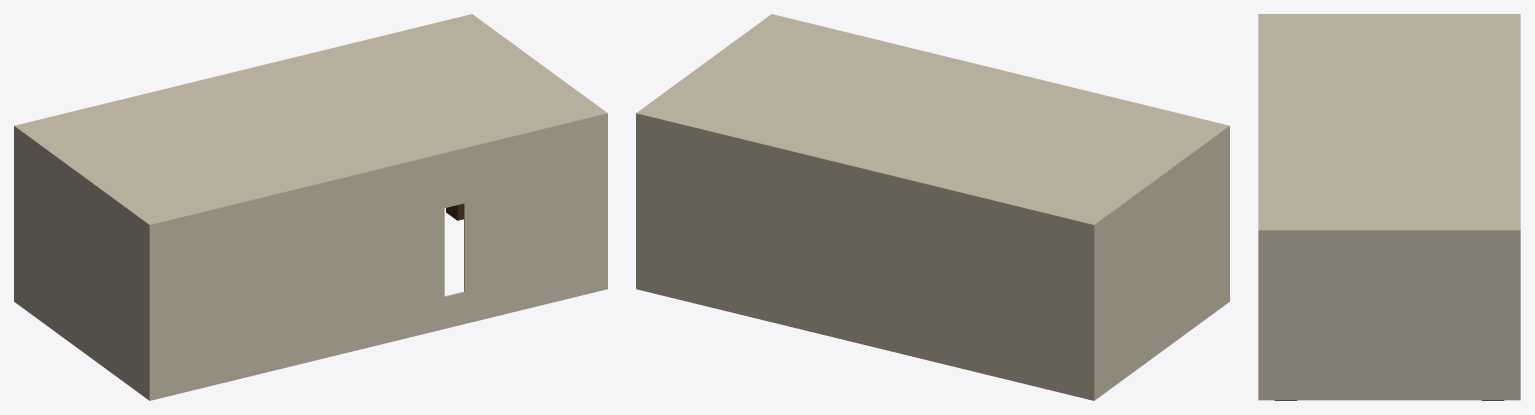
The model's file is hollow_table.glb.
3 views of the same model, side by side, from view 1: azimuth 30°, elevation 25°; view 2: azimuth 150°, elevation 25°; view 3: azimuth 270°, elevation 25° (orthographic). The views are drawn at different scales.
Visible parts, largest first — view 1: Cloth_Front, Cloth_Top, Cloth_Left; view 2: Cloth_Back, Cloth_Top, Cloth_Left; view 3: Cloth_Top, Cloth_Right, Cloth_Front, Cloth_Back.
Boxes of the visible parts, x1=… form: Cloth_Front: x1=149, y1=114, x2=607, y2=400; Cloth_Top: x1=14, y1=14, x2=607, y2=226; Cloth_Left: x1=15, y1=128, x2=148, y2=399; Cloth_Back: x1=636, y1=114, x2=1094, y2=400; Cloth_Top: x1=636, y1=14, x2=1229, y2=226; Cloth_Left: x1=1095, y1=127, x2=1228, y2=399; Cloth_Top: x1=1258, y1=14, x2=1520, y2=231; Cloth_Right: x1=1259, y1=231, x2=1519, y2=400; Cloth_Front: x1=1258, y1=231, x2=1259, y2=400; Cloth_Back: x1=1519, y1=231, x2=1520, y2=400.
Bounding box in the file's own units: 2.05 × 0.786 × 1.05.
